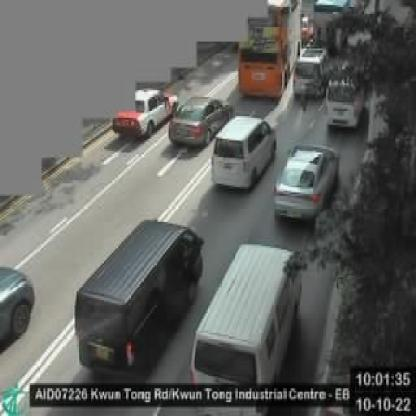Car: (74, 219, 204, 375), (193, 240, 303, 393), (275, 141, 339, 226), (211, 113, 276, 192), (0, 263, 35, 374), (113, 84, 179, 140), (168, 92, 229, 152), (322, 73, 365, 125)
Truck: (236, 0, 302, 102), (302, 0, 383, 59), (292, 38, 336, 106)
